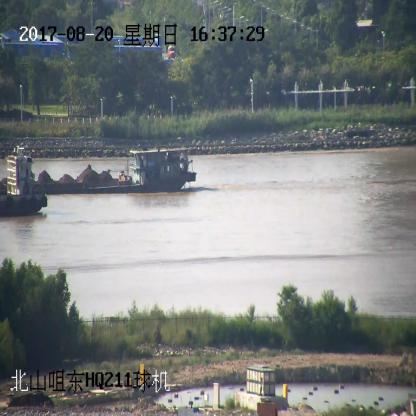Bulk Carrier: (0, 148, 47, 216)
